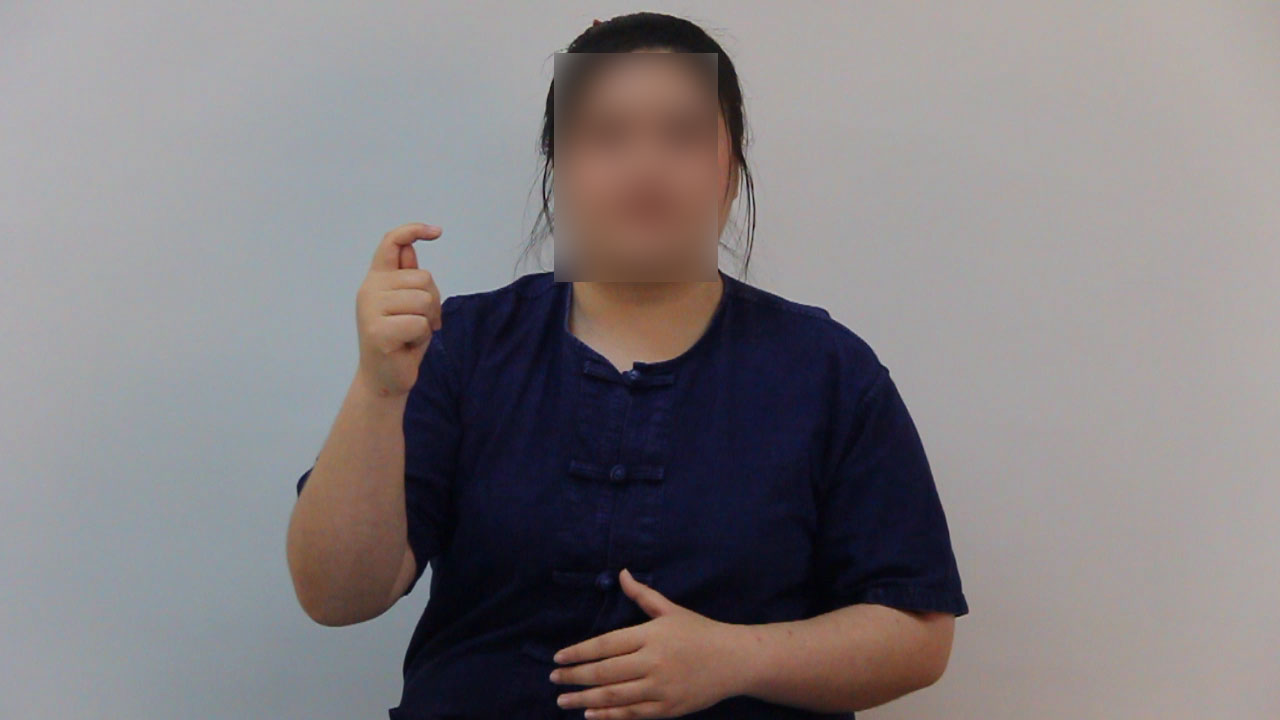or: (346, 214, 453, 414)
